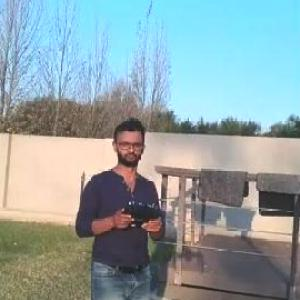follow: (71, 112, 170, 299)
